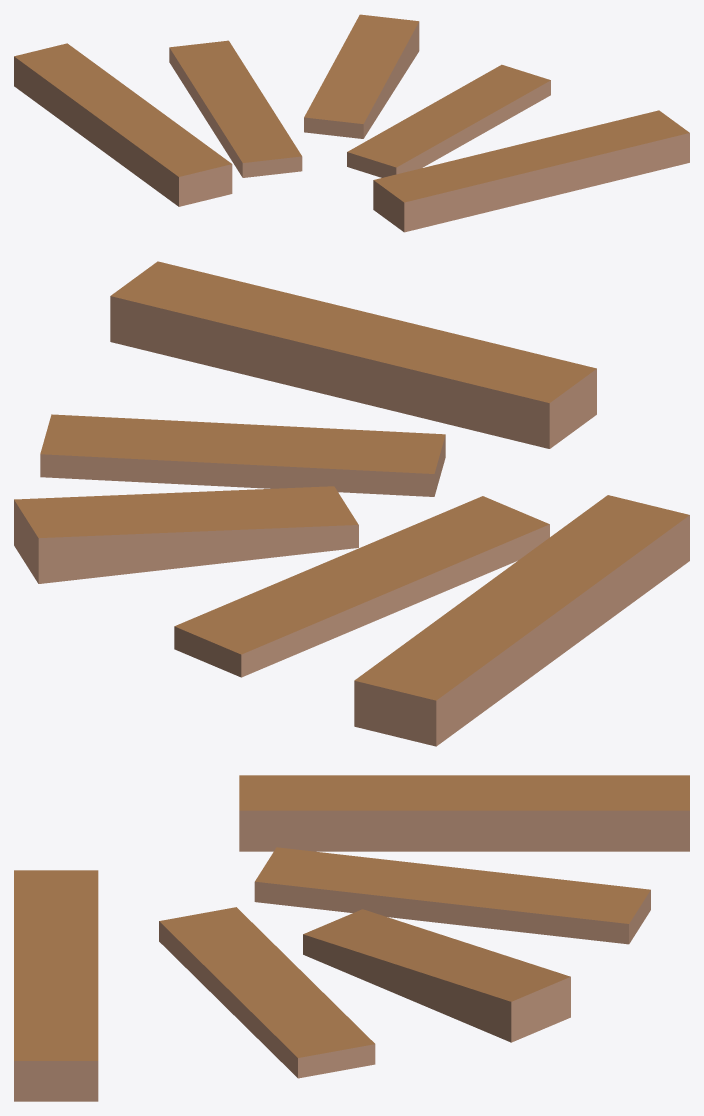
Rendered from path_woodCorner.glb.
3 renders of one model, top to bottom at view 1: azimuth 30°, elevation 25°; view 2: azimuth 150°, elevation 25°; view 3: azimuth 270°, elevation 25°, orthographic. The views are drawn at different scales.
Visible parts, largest first — view 1: path_woodCorner; view 2: path_woodCorner; view 3: path_woodCorner.
Boxes of the visible parts, x1,y1,x2,y2 form: path_woodCorner: [14, 14, 689, 232]; path_woodCorner: [14, 261, 689, 746]; path_woodCorner: [14, 775, 689, 1101].
Size of the model in its own units: 0.75 by 0.05 by 0.75.
